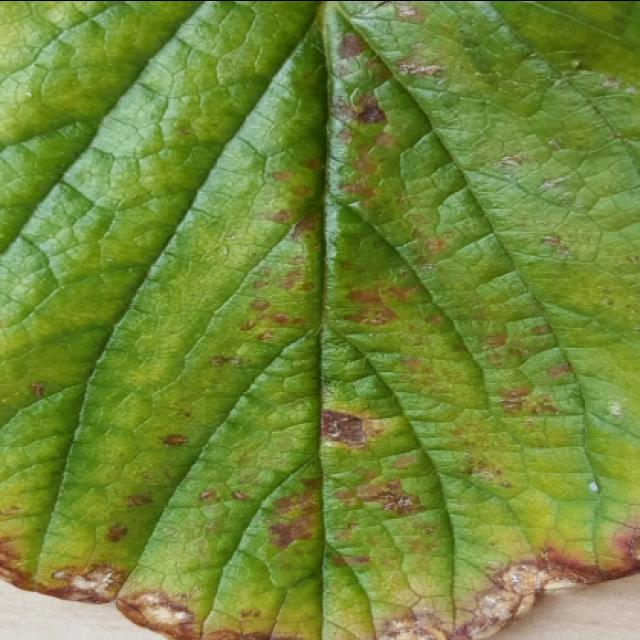Angular Leafspot: (0, 2, 638, 640)
